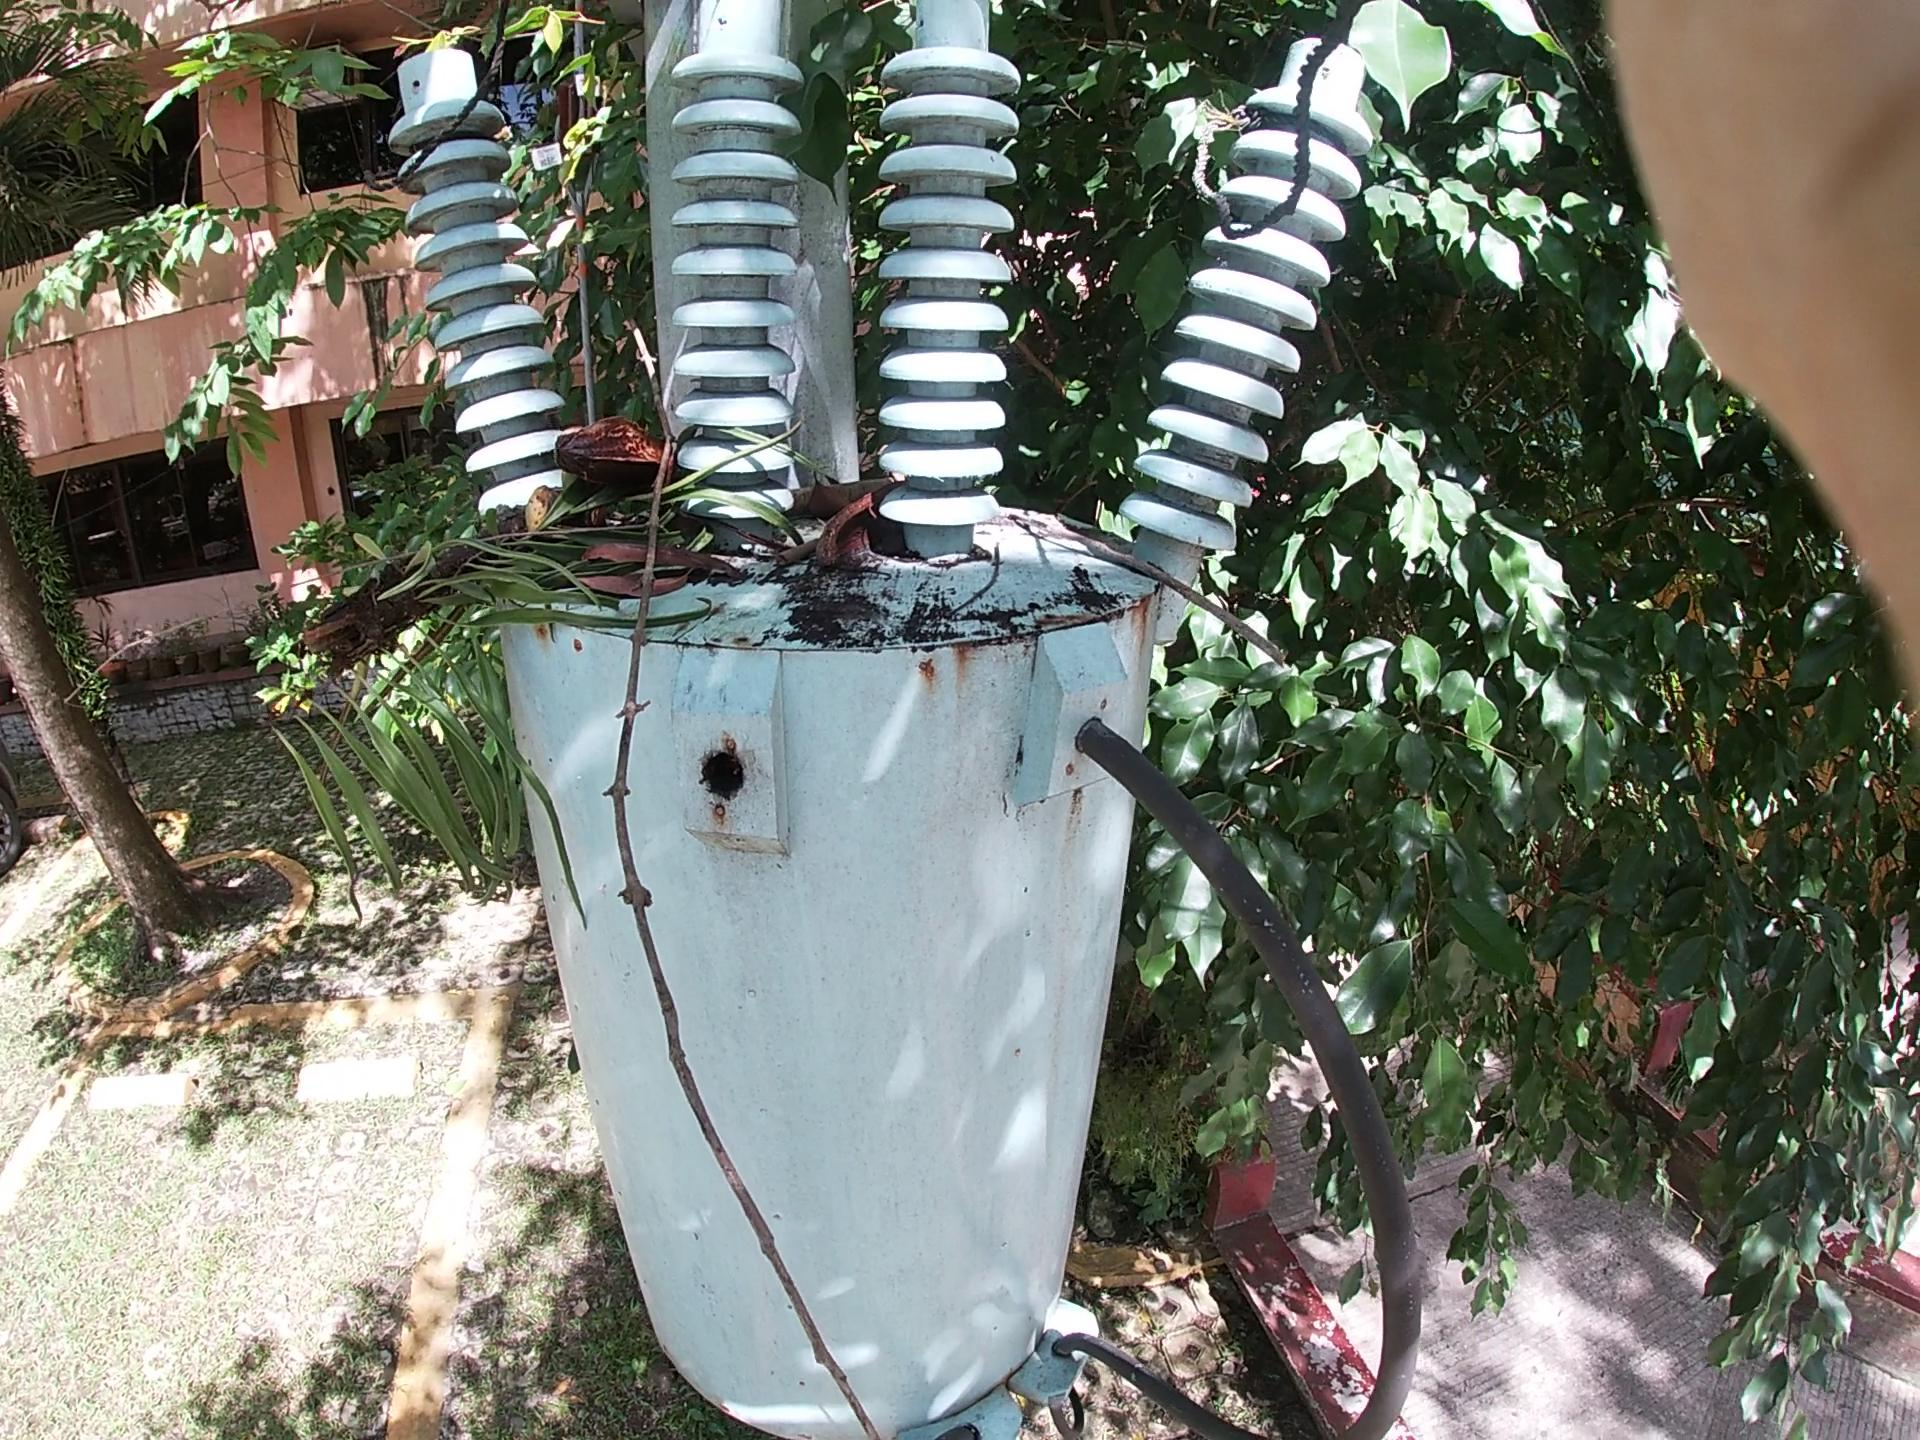branch with leaves: (103, 476, 1104, 867)
leaf: (735, 9, 972, 256)
mahogany fruit: (528, 404, 659, 510), (794, 452, 874, 610)
tree branch: (570, 233, 883, 1438), (968, 389, 1305, 675), (782, 466, 883, 622)
